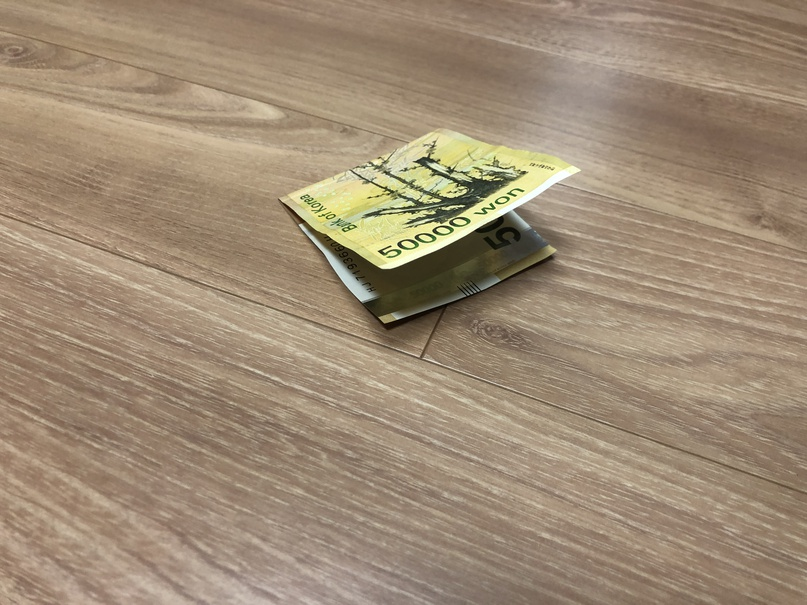50000won: (277, 129, 581, 327)
